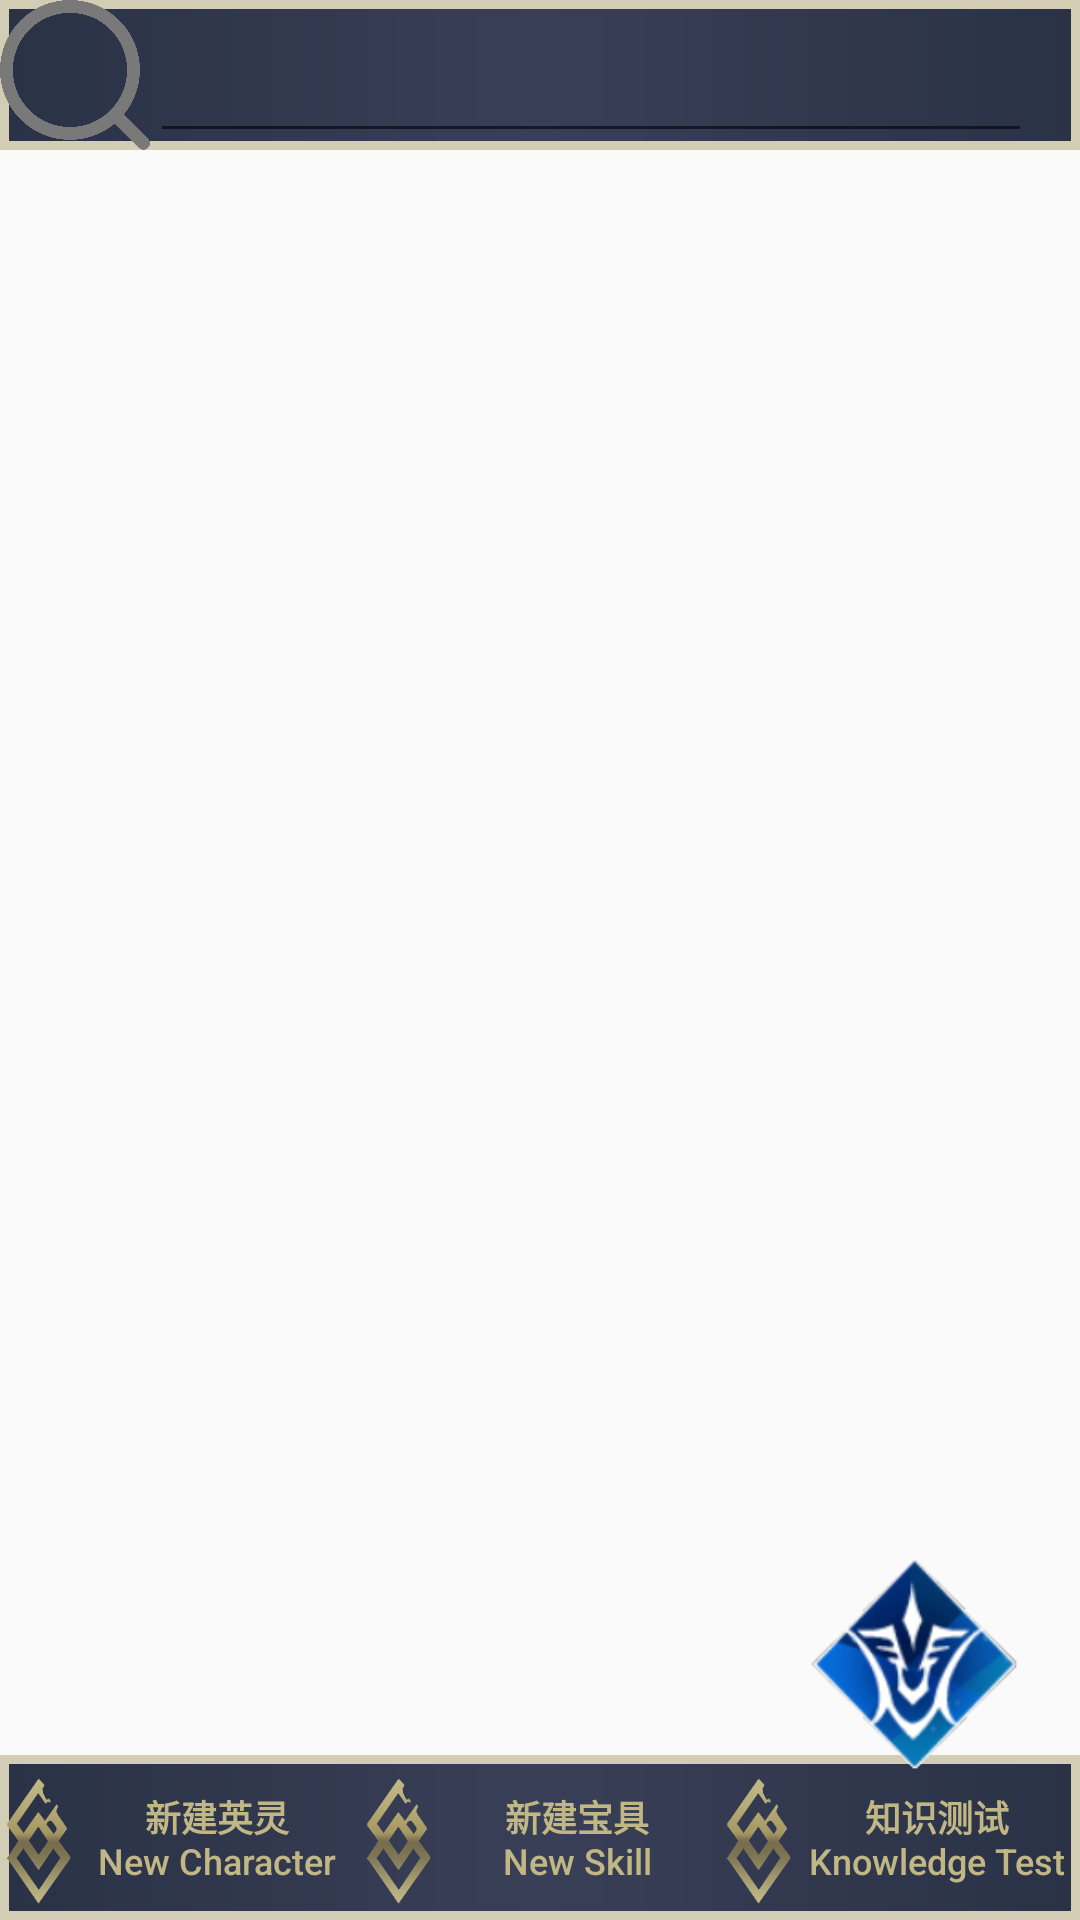

Icons on this 1080 x 1920 Android screen, each with the point to tap as [x,y]:
searchbutton: [75,75]
